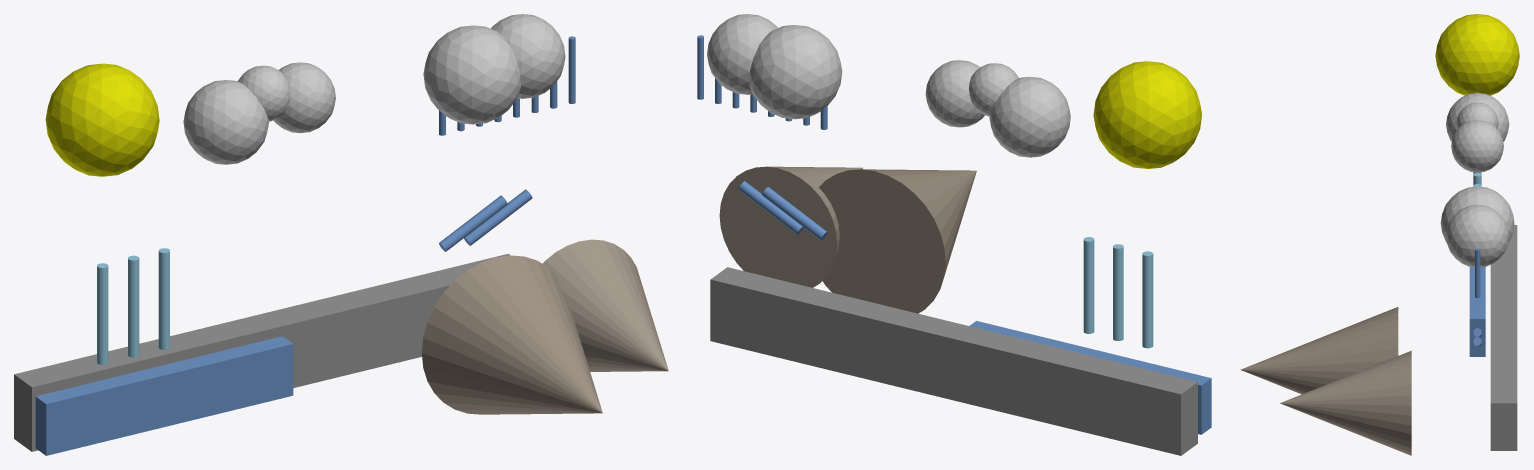
Rendered from water_cycle.glb.
3 renders of one model, left to right at view 1: azimuth 30°, elevation 25°; view 2: azimuth 150°, elevation 25°; view 3: azimuth 270°, elevation 25°, orthographic. The views are drawn at different scales.
Parts seen in each view (by area): view 1: world; view 2: world; view 3: world.
Part boxes in pixels (bbox=[...]): world: bbox=[14, 14, 668, 455]; world: bbox=[697, 14, 1211, 455]; world: bbox=[1240, 14, 1519, 455].
Bounding box in the file's own units: 9 × 6 × 5.3.
